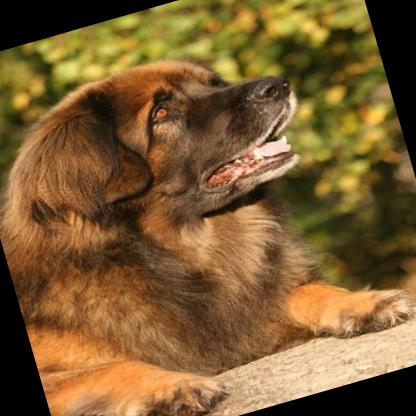Leonberg: (0, 10, 416, 416)
